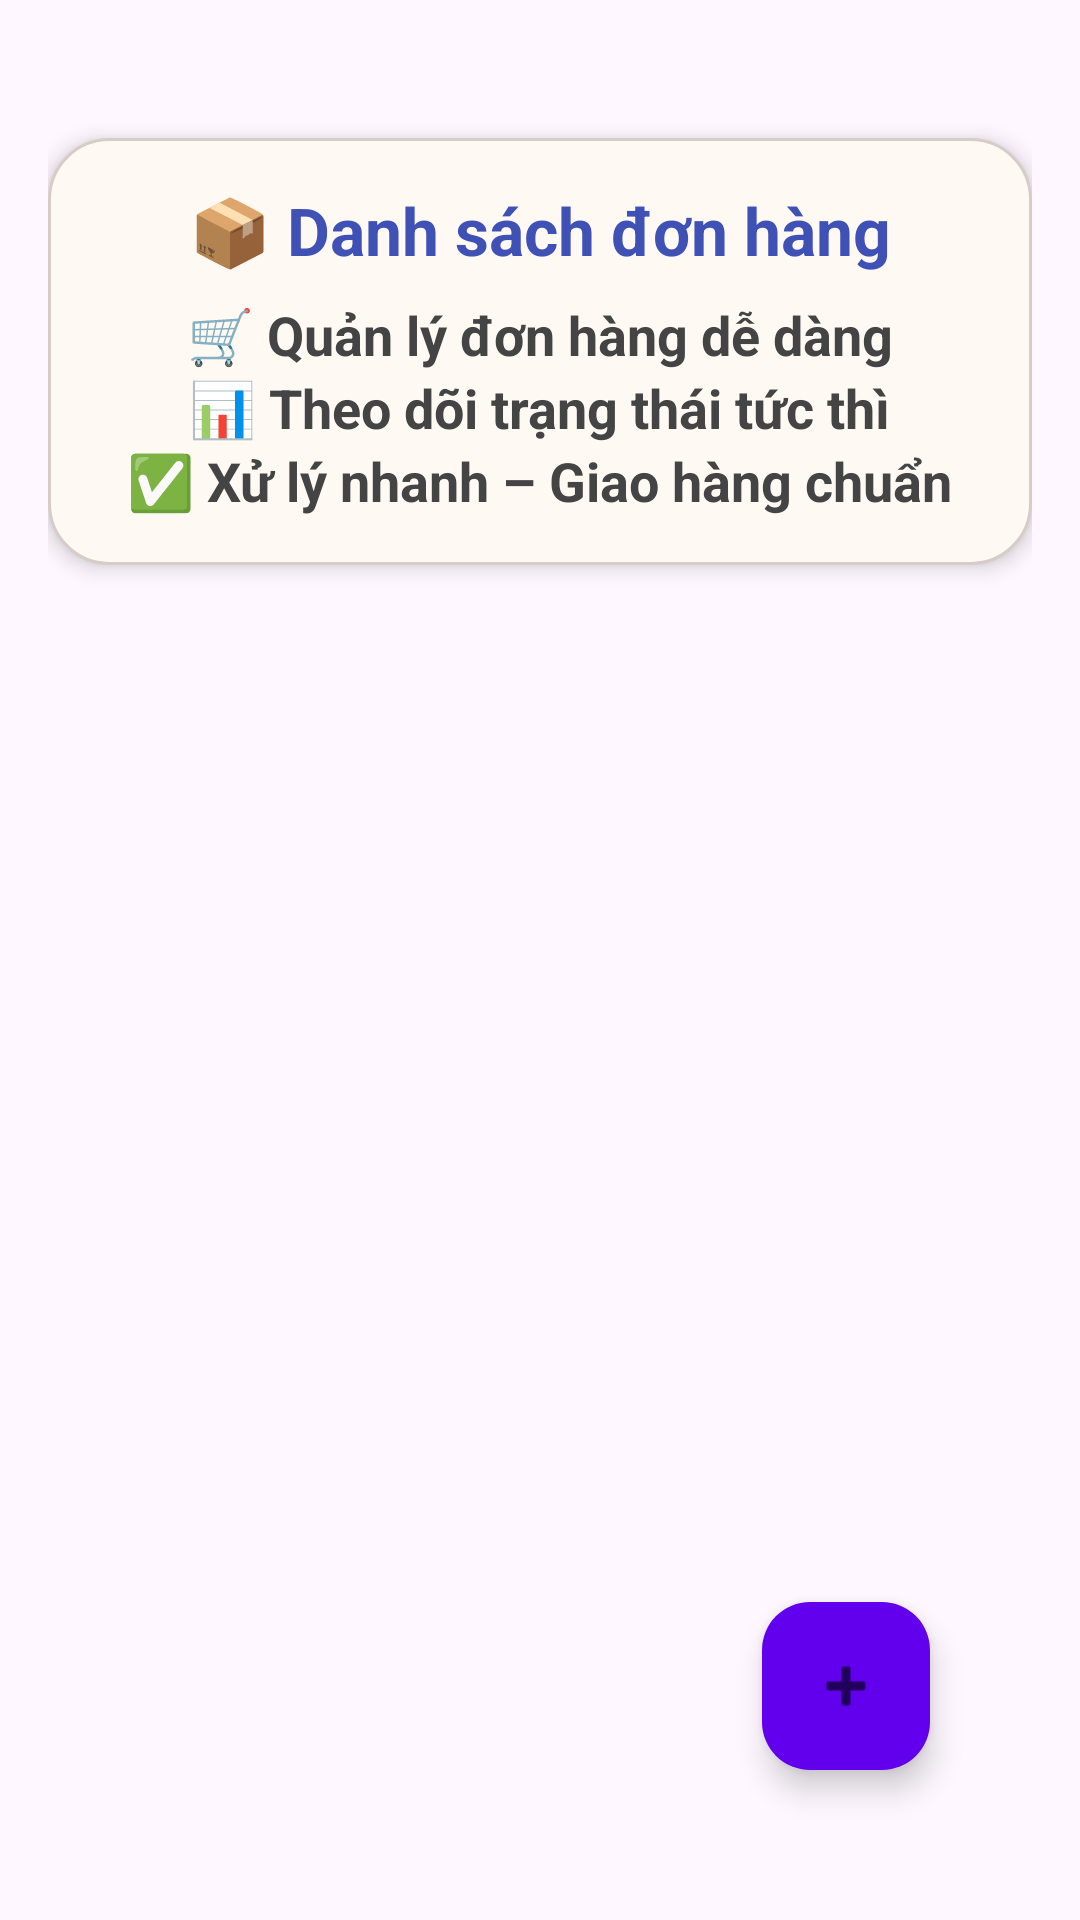

Named icons in this screenshot (1080px x 1920px) and their bounding boxes, (x1, y1, x2, y2):
Thêm đơn hàng: (762, 1602, 930, 1770)
